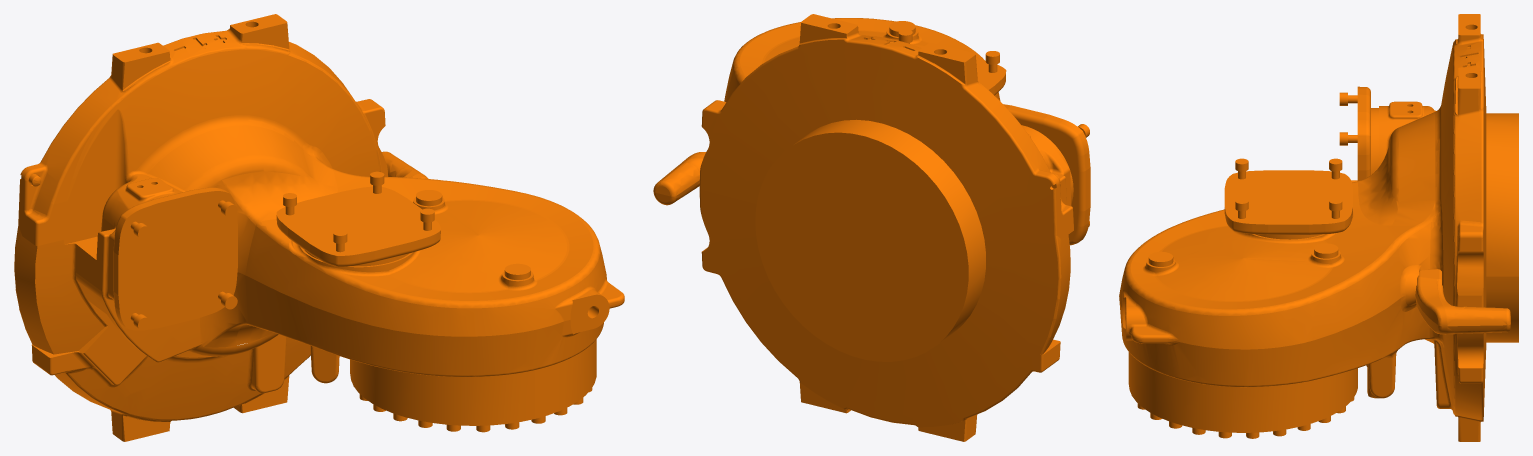
The picture shows the model from 3 angles, left to right: view 1: azimuth 30°, elevation 25°; view 2: azimuth 150°, elevation 25°; view 3: azimuth 270°, elevation 25°; orthographic projection. The views are drawn at different scales.
Visible parts, largest first — view 1: link_1; view 2: link_1; view 3: link_1.
Boxes of the visible parts, x1,y1,x2,y2 form: link_1: (14,14,624,441); link_1: (653,14,1090,441); link_1: (1119,14,1518,441).
Bounding box in the file's own units: 0.4706 × 0.382 × 0.3918.
